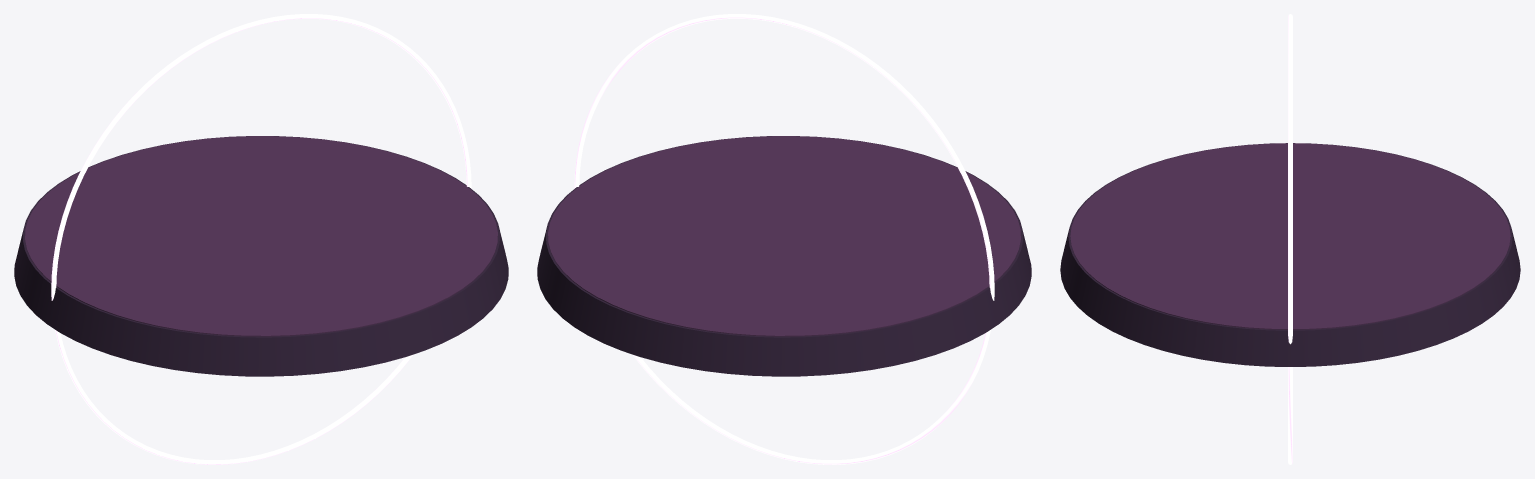
Rendered from stage.glb.
3 views of the same model, side by side, from view 1: azimuth 30°, elevation 25°; view 2: azimuth 150°, elevation 25°; view 3: azimuth 270°, elevation 25° (orthographic). The views are drawn at different scales.
Parts seen in each view (by area): view 1: stage.top, stage.body, stage.led.ring; view 2: stage.top, stage.body, stage.led.ring; view 3: stage.top, stage.body, stage.led.ring.
Boxes of the visible parts, bbox=[...] form: stage.top: bbox=[25, 136, 497, 336]; stage.body: bbox=[14, 136, 508, 376]; stage.led.ring: bbox=[51, 14, 471, 464]; stage.top: bbox=[548, 136, 1020, 336]; stage.body: bbox=[537, 136, 1031, 376]; stage.led.ring: bbox=[574, 14, 994, 464]; stage.top: bbox=[1070, 143, 1510, 329]; stage.body: bbox=[1060, 143, 1520, 366]; stage.led.ring: bbox=[1288, 14, 1292, 464].
Size of the model in its own units: 2.28 by 2.23 by 2.28.
